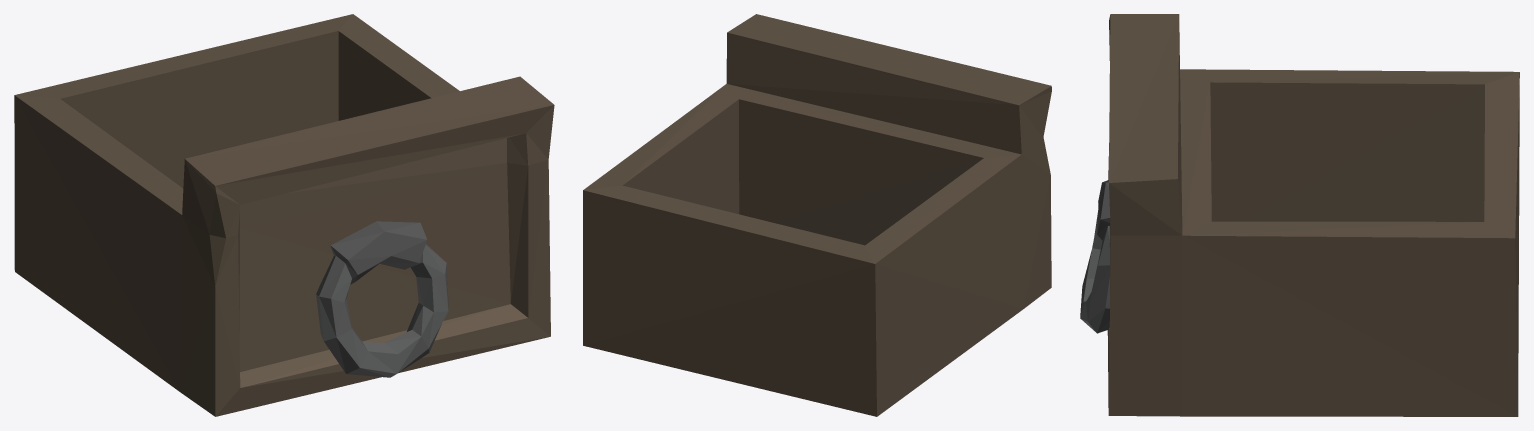
File: SFHW_Desk_Cabinet_002.fbx
3 renders of one model, left to right at view 1: azimuth 30°, elevation 25°; view 2: azimuth 150°, elevation 25°; view 3: azimuth 270°, elevation 25°, orthographic. The views are drawn at different scales.
Visible parts, largest first — view 1: SFHW_Desk_Cabinet_002; view 2: SFHW_Desk_Cabinet_002; view 3: SFHW_Desk_Cabinet_002.
Part boxes in pixels (x1,y1,x2,y2): SFHW_Desk_Cabinet_002: [14, 14, 554, 416]; SFHW_Desk_Cabinet_002: [583, 14, 1051, 416]; SFHW_Desk_Cabinet_002: [1080, 14, 1519, 416].
Bounding box in the file's own units: 17.66 × 11.67 × 19.44.
